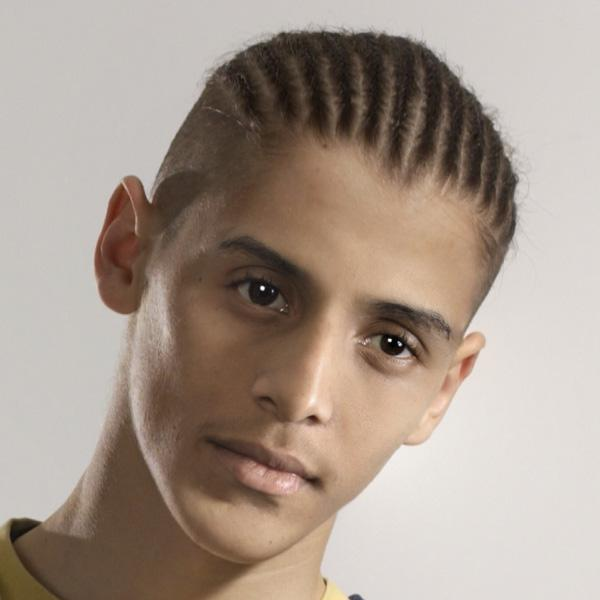Eyes: (219, 259, 298, 324), (353, 314, 423, 369)
